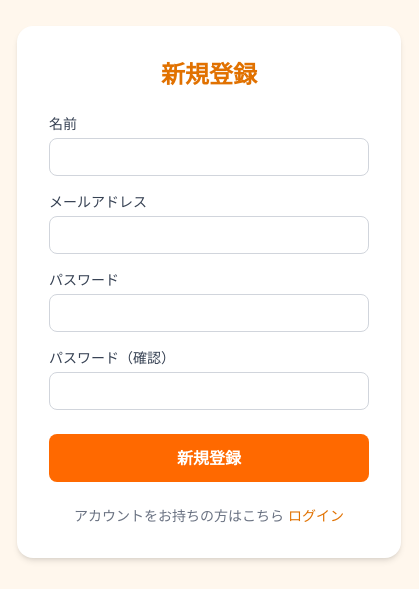
新規登録の422エラーをメールアドレス欄に表示する
Step 1. Type "E2E Test User" into the field labelled "名前" → x=209, y=157, box x1=49 y1=138 x2=369 y2=176
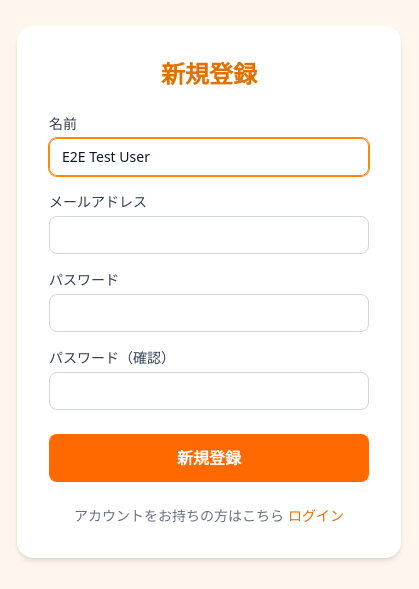
Step 2. Type "existing@example.com" into the field labelled "メールアドレス" → x=209, y=235, box x1=49 y1=216 x2=369 y2=254
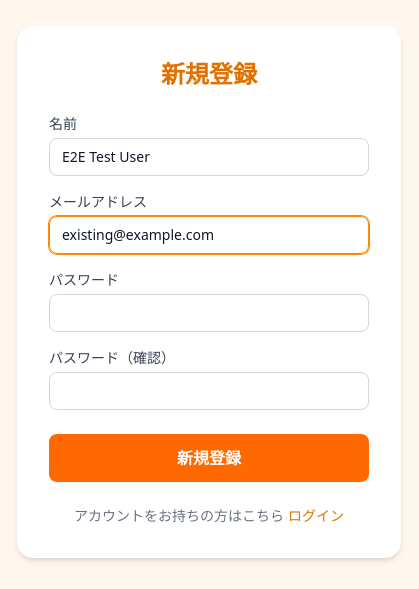
Step 3. Type "password123" into the password field labelled "パスワード" → x=209, y=313, box x1=49 y1=294 x2=369 y2=332
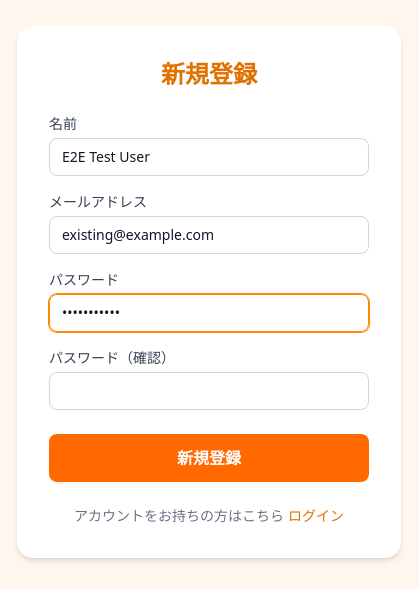
Step 4. Type "password123" into the password field labelled "パスワード（確認）" → x=209, y=391, box x1=49 y1=372 x2=369 y2=410
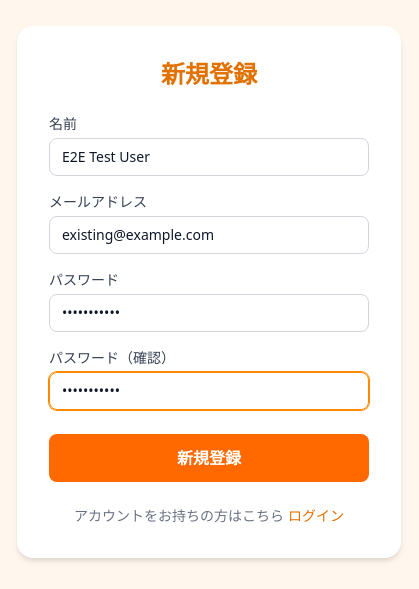
Step 5. Click the button "新規登録" → x=209, y=458, box x1=49 y1=434 x2=369 y2=482
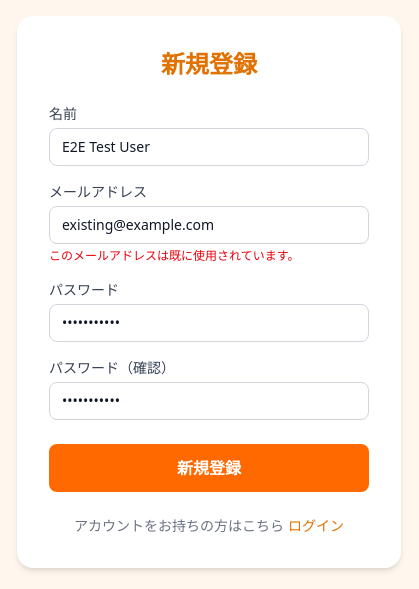
Result: the message reads "このメールアドレスは既に使用されています。" at x1=49 y1=247 x2=300 y2=264
